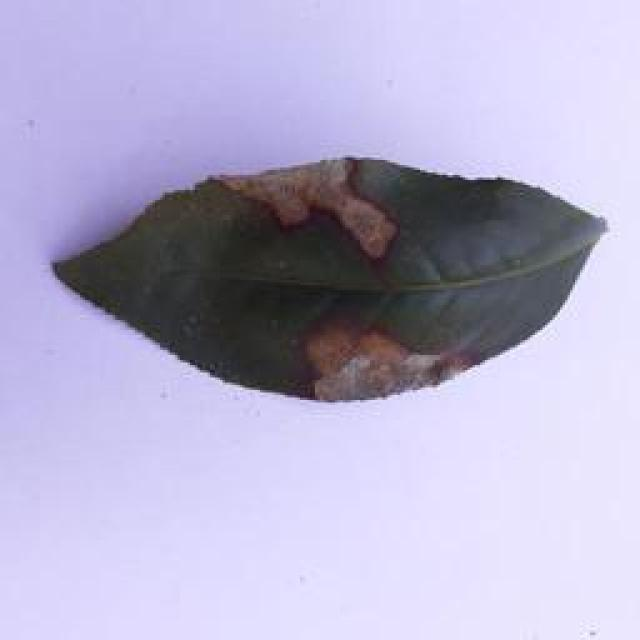Gray Blight: (47, 152, 615, 408)
